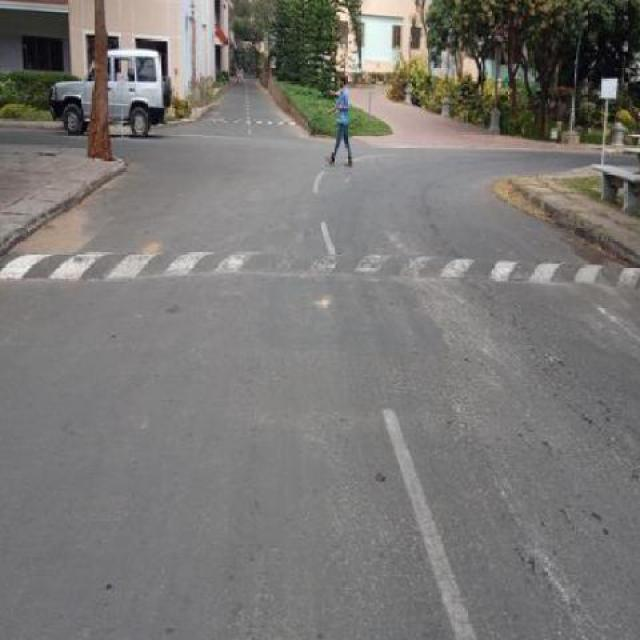Speed Bump: (0, 247, 639, 298)
